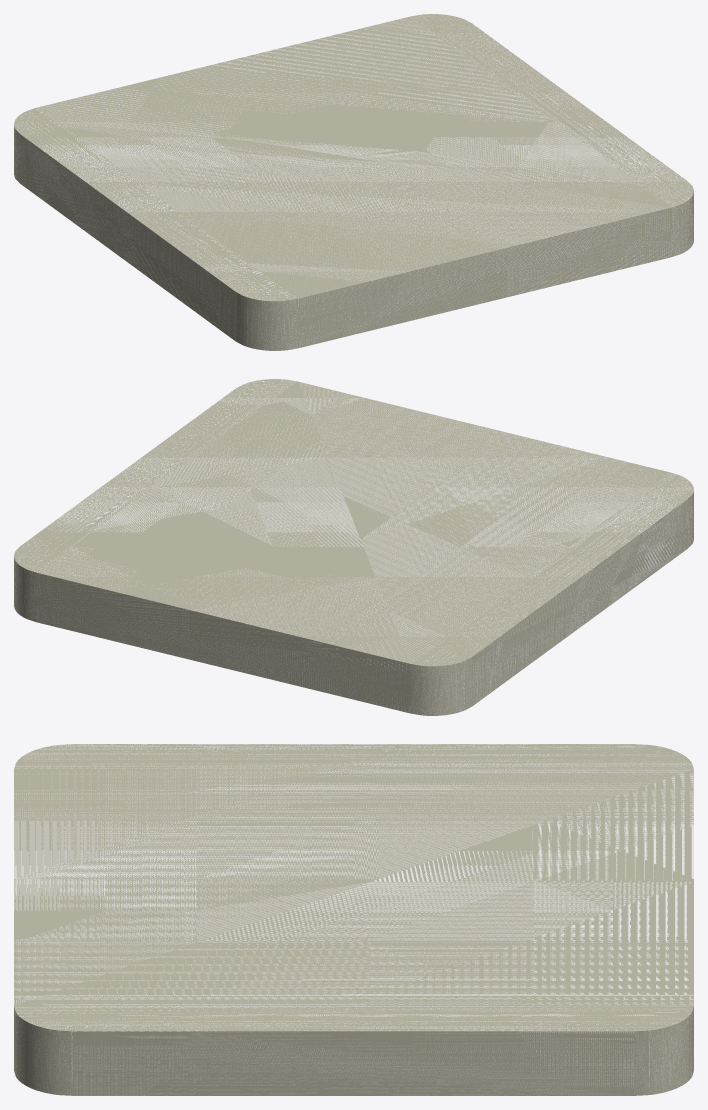
The model's file is original-45.obj.
3 views of the same model, one above another, from view 1: azimuth 30°, elevation 25°; view 2: azimuth 150°, elevation 25°; view 3: azimuth 270°, elevation 25° (orthographic). The views are drawn at different scales.
Parts seen in each view (by area): view 1: mesh44/mesh44-geometry#mesh44-geometry; view 2: mesh44/mesh44-geometry#mesh44-geometry; view 3: mesh44/mesh44-geometry#mesh44-geometry.
Part boxes in pixels (x1,y1,x2,y2): mesh44/mesh44-geometry#mesh44-geometry: (14, 14, 693, 350); mesh44/mesh44-geometry#mesh44-geometry: (14, 379, 693, 715); mesh44/mesh44-geometry#mesh44-geometry: (14, 744, 693, 1095).
Bounding box in the file's own units: 0.1057 × 0.0111 × 0.1057.
